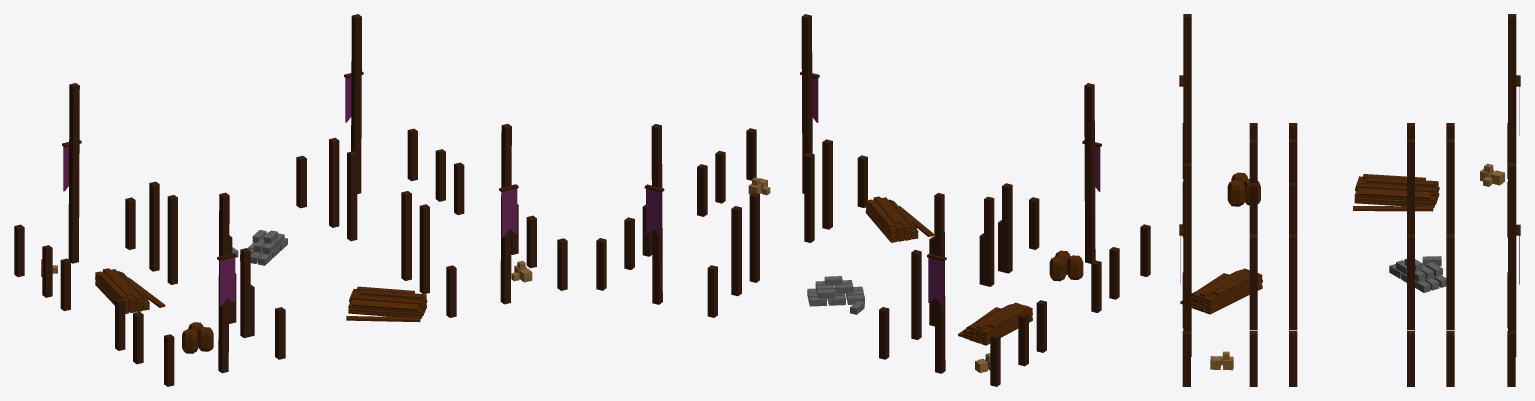
Rendered from MineBuildPhase1v2.fbx.
The picture shows the model from 3 angles, left to right: view 1: azimuth 30°, elevation 25°; view 2: azimuth 150°, elevation 25°; view 3: azimuth 270°, elevation 25°; orthographic projection. The views are drawn at different scales.
Parts seen in each view (by area): view 1: Cube.3954; view 2: Cube.3954; view 3: Cube.3954.
Boxes of the visible parts, bbox=[...] form: Cube.3954: bbox=[14, 14, 567, 386]; Cube.3954: bbox=[596, 14, 1150, 386]; Cube.3954: bbox=[1179, 14, 1520, 386].
Bounding box in the file's own units: 410 × 173 × 280.
